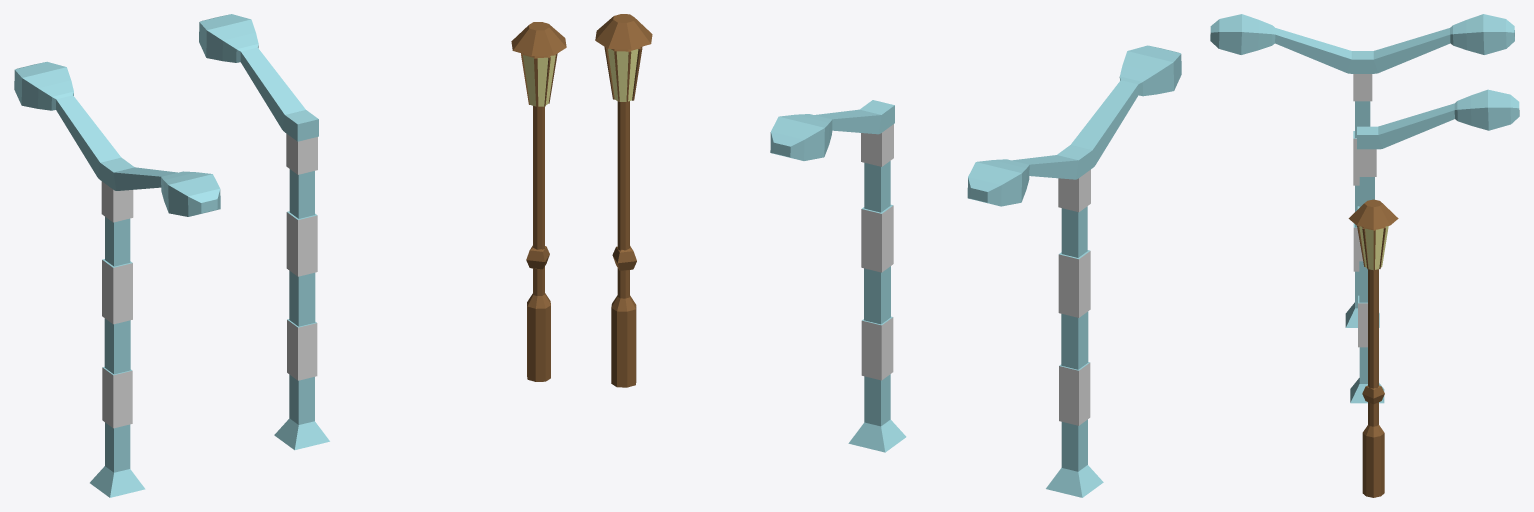
The model's file is street_lamp2.fbx.
The picture shows the model from 3 angles, left to right: view 1: azimuth 30°, elevation 25°; view 2: azimuth 150°, elevation 25°; view 3: azimuth 270°, elevation 25°; orthographic projection. The views are drawn at different scales.
Visible parts, largest first — view 1: street_lamp_Y, street_lamp_L, street_lamp_l; view 2: street_lamp_Y, street_lamp_L, street_lamp_l; view 3: street_lamp_Y, street_lamp_L, street_lamp_l.
Part boxes in pixels (x1,y1,x2,y2): street_lamp_Y: [14, 61, 220, 497]; street_lamp_L: [199, 14, 329, 450]; street_lamp_l: [511, 22, 566, 381]; street_lamp_Y: [967, 45, 1181, 497]; street_lamp_L: [770, 100, 906, 452]; street_lamp_l: [595, 14, 652, 387]; street_lamp_Y: [1210, 14, 1514, 327]; street_lamp_L: [1350, 89, 1519, 403]; street_lamp_l: [1348, 199, 1398, 497].
Size of the model in its own units: 548 by 396 by 372.
